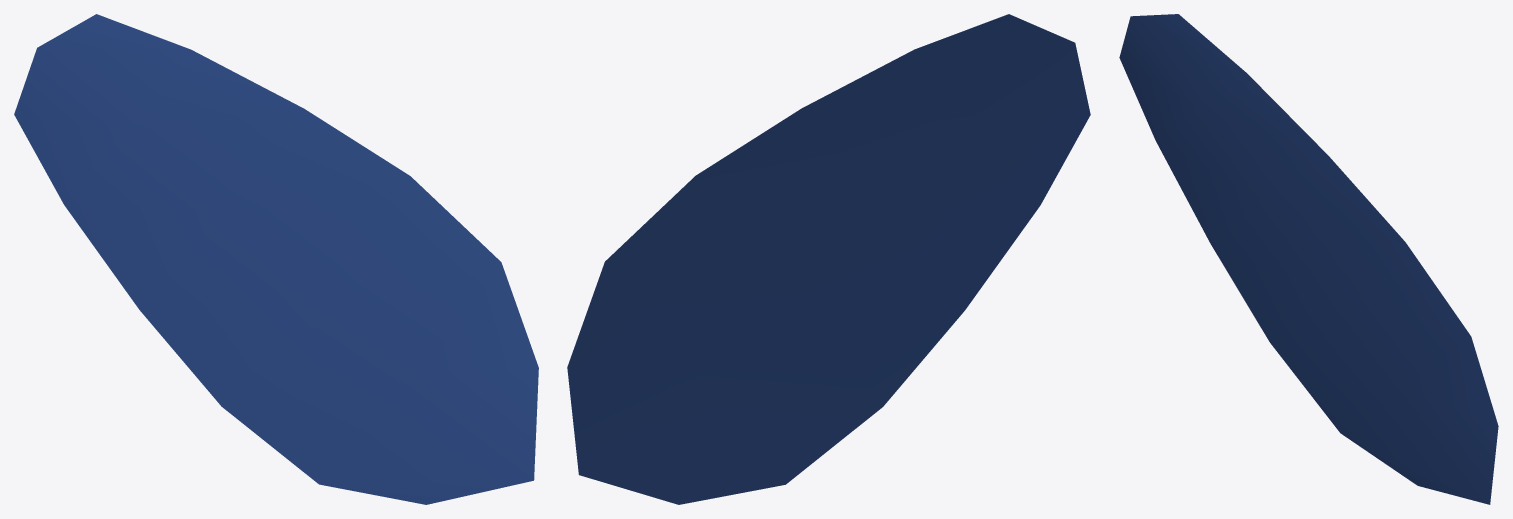
The model's file is lovebird_feather_flight_secondary_013.obj.
3 renders of one model, left to right at view 1: azimuth 30°, elevation 25°; view 2: azimuth 150°, elevation 25°; view 3: azimuth 330°, elevation 25°, orthographic. The views are drawn at different scales.
Parts seen in each view (by area): view 1: feather_flight_secondary_013; view 2: feather_flight_secondary_013; view 3: feather_flight_secondary_013.
Part boxes in pixels (x1,y1,x2,y2): feather_flight_secondary_013: (14, 14, 538, 504); feather_flight_secondary_013: (567, 14, 1090, 504); feather_flight_secondary_013: (1119, 14, 1498, 504).
Bounding box in the file's own units: 0.0134 × 0.0139 × 0.000178.
